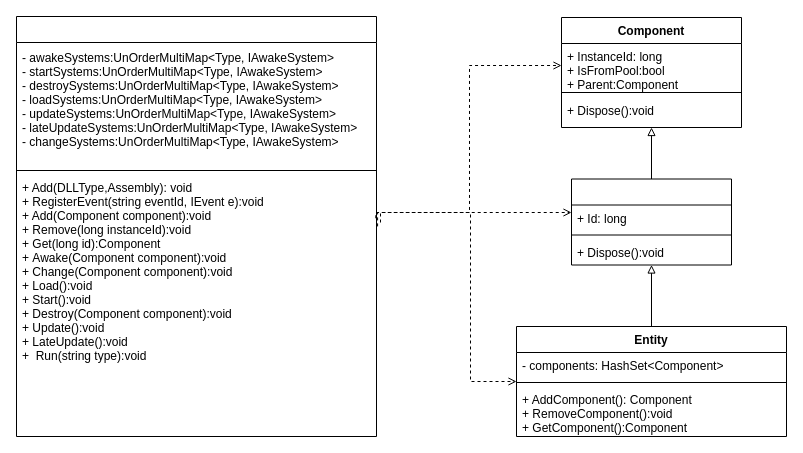
Some shapes in this 803 by 453 pixel diagram are drawn without their labels. The box of each missing label's shape, as (x1, y1, x2, y2) in pixels:
ComponentWithId: (570, 178, 732, 265)
EventSystem: (16, 16, 376, 436)
